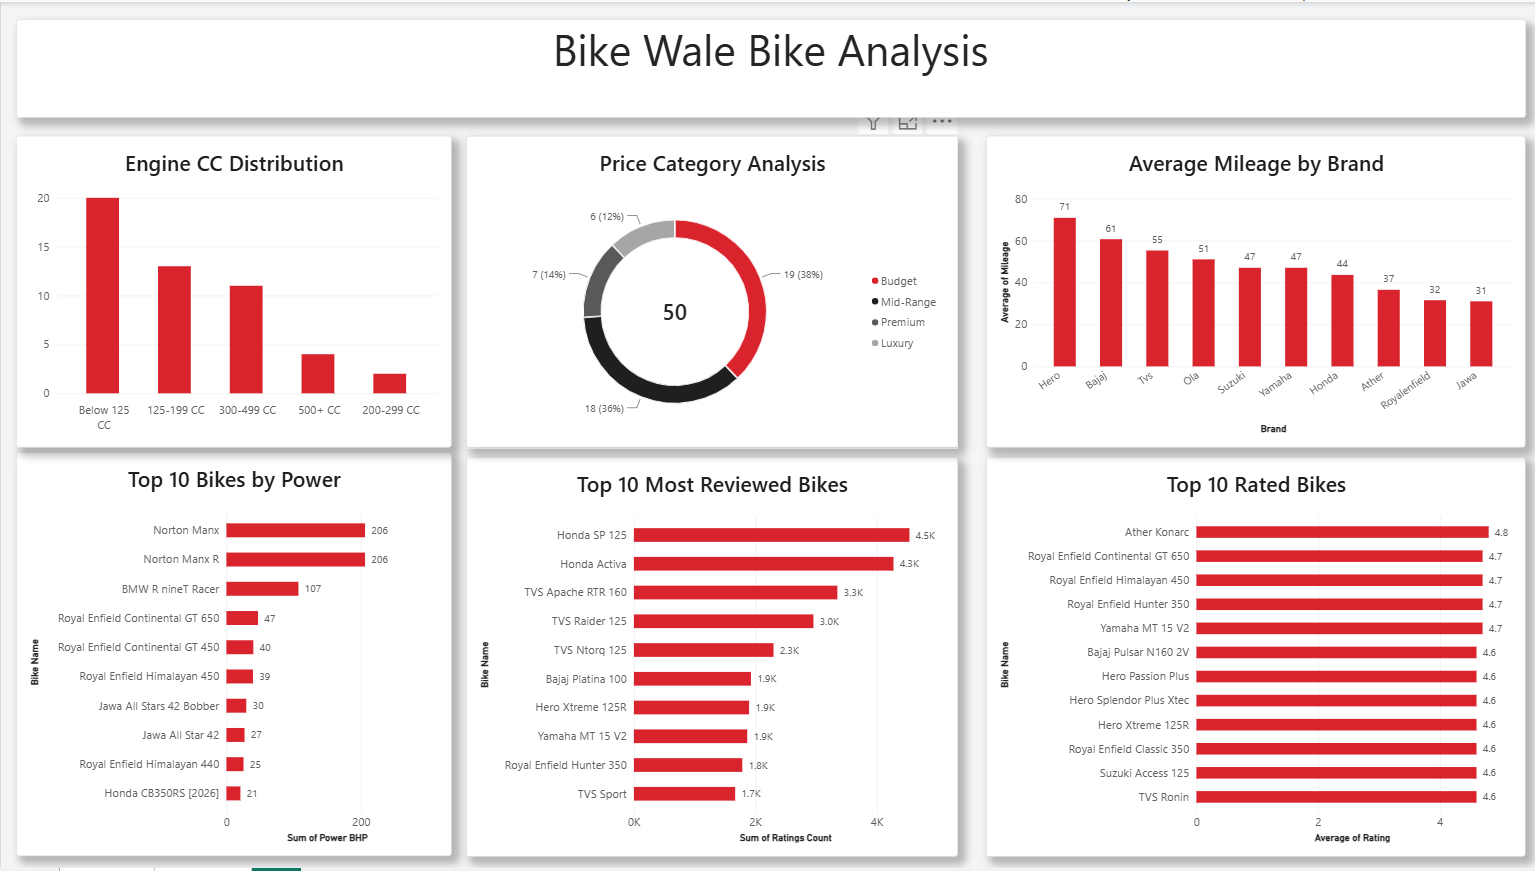

This screenshot's page, from the dashboard's own definition file:
{"tool":"powerbi","page":{"name":"Page 2","canvas":[1920,1080],"ordinal":1},"visuals":[{"type":"clusteredBarChart","title":"Top 10 Most Reviewed Bikes","fields":{"Category":["bikewale_cleaned_data.Bike Name"],"Y":["Sum(bikewale_cleaned_data.Ratings Count)"]},"box":[580.4,568.1,613.4,498.1],"z":0},{"type":"clusteredBarChart","title":"Top 10 Rated Bikes","fields":{"Category":["bikewale_cleaned_data.Bike Name"],"Y":["Avg(bikewale_cleaned_data.Rating)"]},"box":[1228.8,568.1,673.1,498.1],"z":1},{"type":"clusteredColumnChart","title":"Average Mileage by Brand","fields":{"Category":["bikewale_cleaned_data.Brand"],"Y":["Avg(bikewale_cleaned_data.Mileage)"]},"box":[1228.8,166.7,673.1,389],"z":2},{"type":"clusteredBarChart","title":"Top 10 Bikes by Power","fields":{"Category":["bikewale_cleaned_data27.Bike Name"],"Y":["Sum(bikewale_cleaned_data27.Power BHP)"]},"box":[18.5,561.9,543.4,504.3],"z":3},{"type":"donutChart","title":"Price Category Analysis","fields":{"Category":["bikewale_cleaned_data27.Price Category"],"Y":["CountNonNull(bikewale_cleaned_data27.Bike Name)"]},"box":[580.4,166.7,613.4,389],"z":4},{"type":"clusteredColumnChart","title":"Engine CC Distribution","fields":{"Category":["bikewale_cleaned_data27.Engine CC Category"],"Y":["CountNonNull(bikewale_cleaned_data27.Bike Name)"]},"box":[18.5,166.7,543.4,389],"z":5},{"type":"textbox","box":[19.4,22.2,1882.9,122],"z":6}]}

Visuals, with their boxes on the page's 1920x1080 design canvas (x1, y1, x2, y2). These are canvas units, not pixel positions in the 1535x871 screenshot, which may show the page scaled, cropped or inside an application window:
"Top 10 Most Reviewed Bikes" clusteredBarChart: 580,568,1194,1066
"Top 10 Rated Bikes" clusteredBarChart: 1229,568,1902,1066
"Average Mileage by Brand" clusteredColumnChart: 1229,167,1902,556
"Top 10 Bikes by Power" clusteredBarChart: 18,562,562,1066
"Price Category Analysis" donutChart: 580,167,1194,556
"Engine CC Distribution" clusteredColumnChart: 18,167,562,556
textbox: 19,22,1902,144
